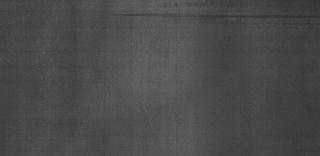scratches: (110, 9, 318, 29)
